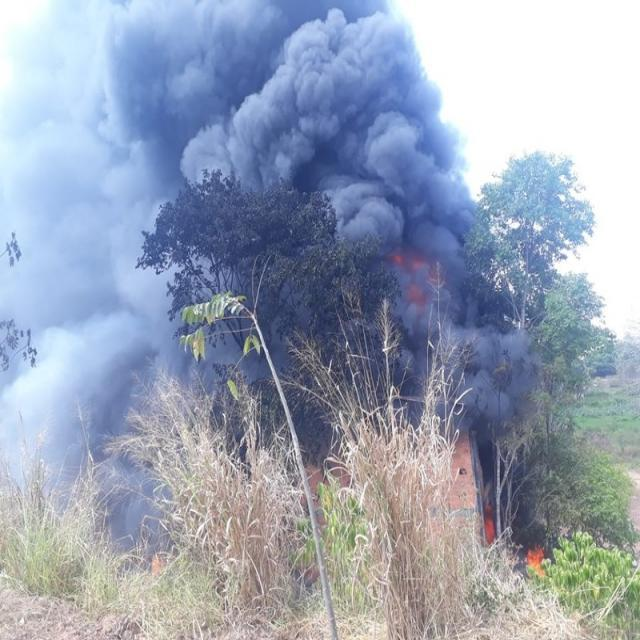Fire: (522, 538, 552, 576)
